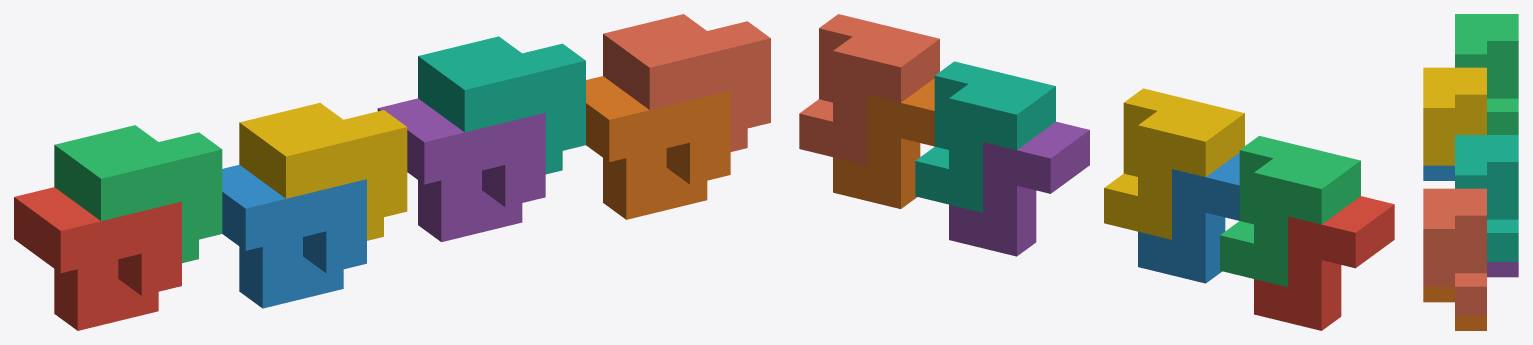
Rendered from tiling.obj.
3 views of the same model, side by side, from view 1: azimuth 30°, elevation 25°; view 2: azimuth 150°, elevation 25°; view 3: azimuth 270°, elevation 25° (orthographic). The views are drawn at different scales.
Parts seen in each view (by area): view 1: copy_1_domain_1, copy_1_domain_2, copy_1_domain_6, copy_1_domain_5, copy_1_domain_3, copy_1_domain_4, copy_1_domain_7, copy_1_domain_8; view 2: copy_1_domain_3, copy_1_domain_7, copy_1_domain_4, copy_1_domain_8, copy_1_domain_5, copy_1_domain_1, copy_1_domain_6, copy_1_domain_2; view 3: copy_1_domain_8, copy_1_domain_7, copy_1_domain_3, copy_1_domain_4, copy_1_domain_6, copy_1_domain_2, copy_1_domain_5.
Boxes of the visible parts, left/top/right/bottom form: copy_1_domain_1: left=14, top=187, right=181, bottom=330; copy_1_domain_2: left=222, top=164, right=366, bottom=308; copy_1_domain_6: left=586, top=76, right=730, bottom=219; copy_1_domain_5: left=377, top=98, right=545, bottom=242; copy_1_domain_3: left=54, top=125, right=222, bottom=263; copy_1_domain_4: left=239, top=103, right=407, bottom=240; copy_1_domain_7: left=418, top=36, right=585, bottom=174; copy_1_domain_8: left=603, top=14, right=770, bottom=151; copy_1_domain_3: left=1220, top=136, right=1360, bottom=287; copy_1_domain_7: left=915, top=61, right=1055, bottom=212; copy_1_domain_4: left=1104, top=88, right=1244, bottom=239; copy_1_domain_8: left=799, top=14, right=939, bottom=165; copy_1_domain_5: left=949, top=121, right=1089, bottom=256; copy_1_domain_1: left=1254, top=196, right=1394, bottom=330; copy_1_domain_6: left=833, top=78, right=934, bottom=208; copy_1_domain_2: left=1138, top=153, right=1239, bottom=283; copy_1_domain_8: left=1423, top=188, right=1486, bottom=315; copy_1_domain_7: left=1455, top=135, right=1518, bottom=261; copy_1_domain_3: left=1455, top=14, right=1518, bottom=134; copy_1_domain_4: left=1423, top=67, right=1486, bottom=165; copy_1_domain_6: left=1423, top=286, right=1486, bottom=330; copy_1_domain_2: left=1423, top=165, right=1454, bottom=180; copy_1_domain_5: left=1487, top=262, right=1518, bottom=277.
Size of the model in its own units: 17 by 4 by 3.
